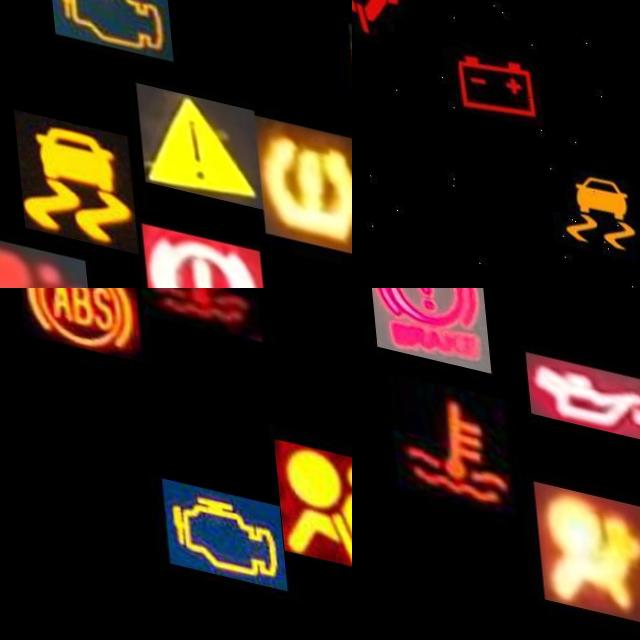Central Warning lamp: (132, 72, 258, 193)
Engine cooling system: (384, 371, 511, 511), (133, 288, 258, 329)
